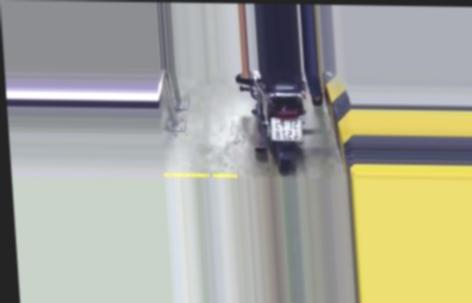License_Plate: (267, 115, 308, 144)
